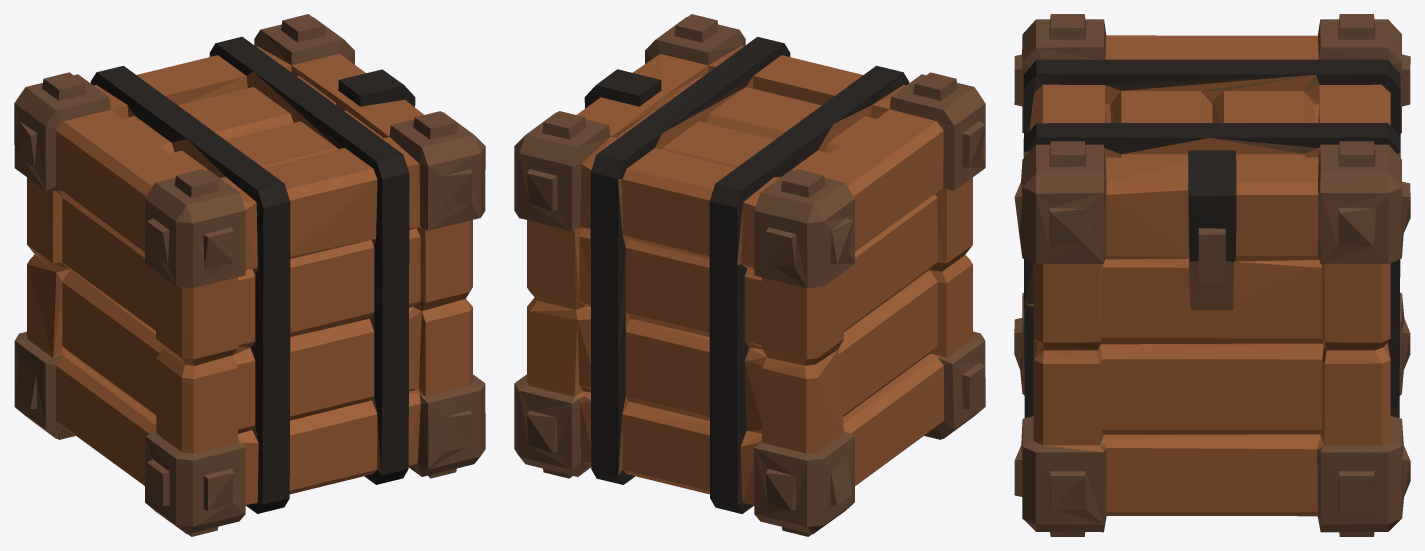
The model's file is crate.glb.
3 renders of one model, left to right at view 1: azimuth 30°, elevation 25°; view 2: azimuth 150°, elevation 25°; view 3: azimuth 270°, elevation 25°, orthographic. The views are drawn at different scales.
Parts seen in each view (by area): view 1: model; view 2: model; view 3: model.
Part boxes in pixels (bbox=[...]): model: bbox=[14, 14, 485, 536]; model: bbox=[514, 14, 985, 536]; model: bbox=[1014, 14, 1410, 536].
Bounding box in the file's own units: 0.5111 × 0.5267 × 0.4949.
Materials: 1 (1 with a texture image).
